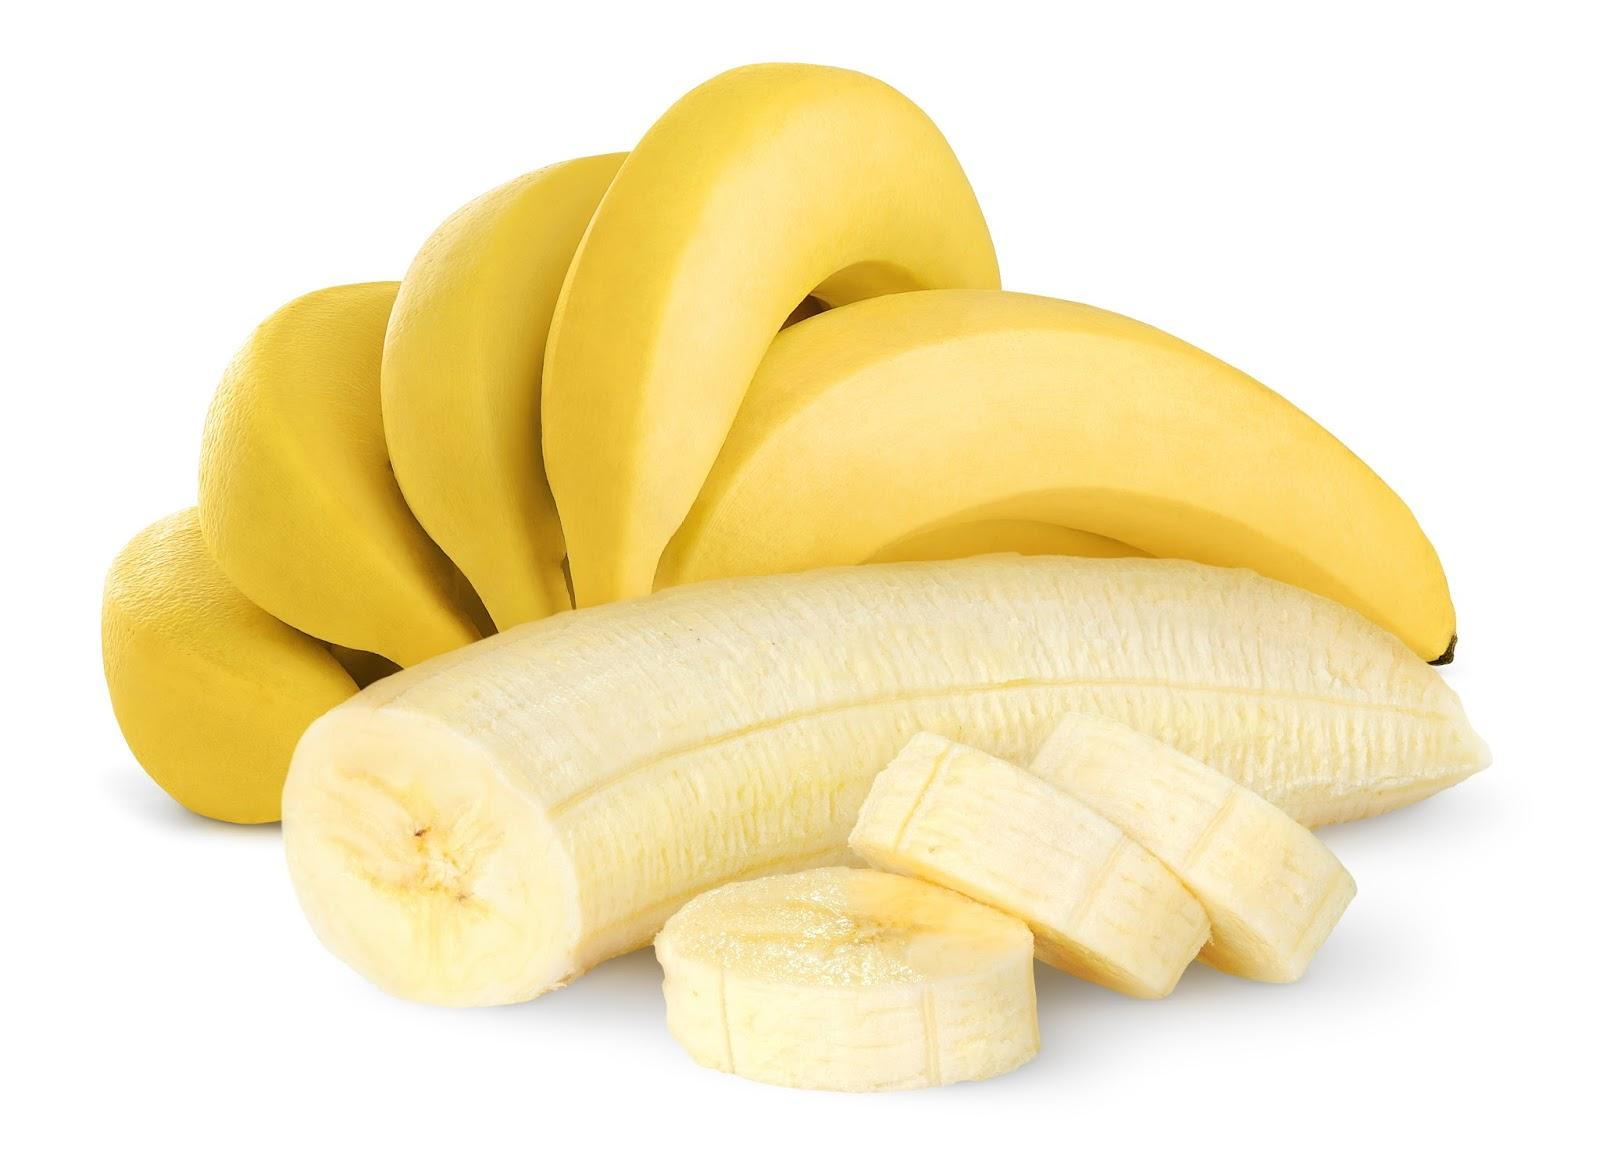banana: (42, 72, 1514, 588), (268, 563, 1516, 960)
